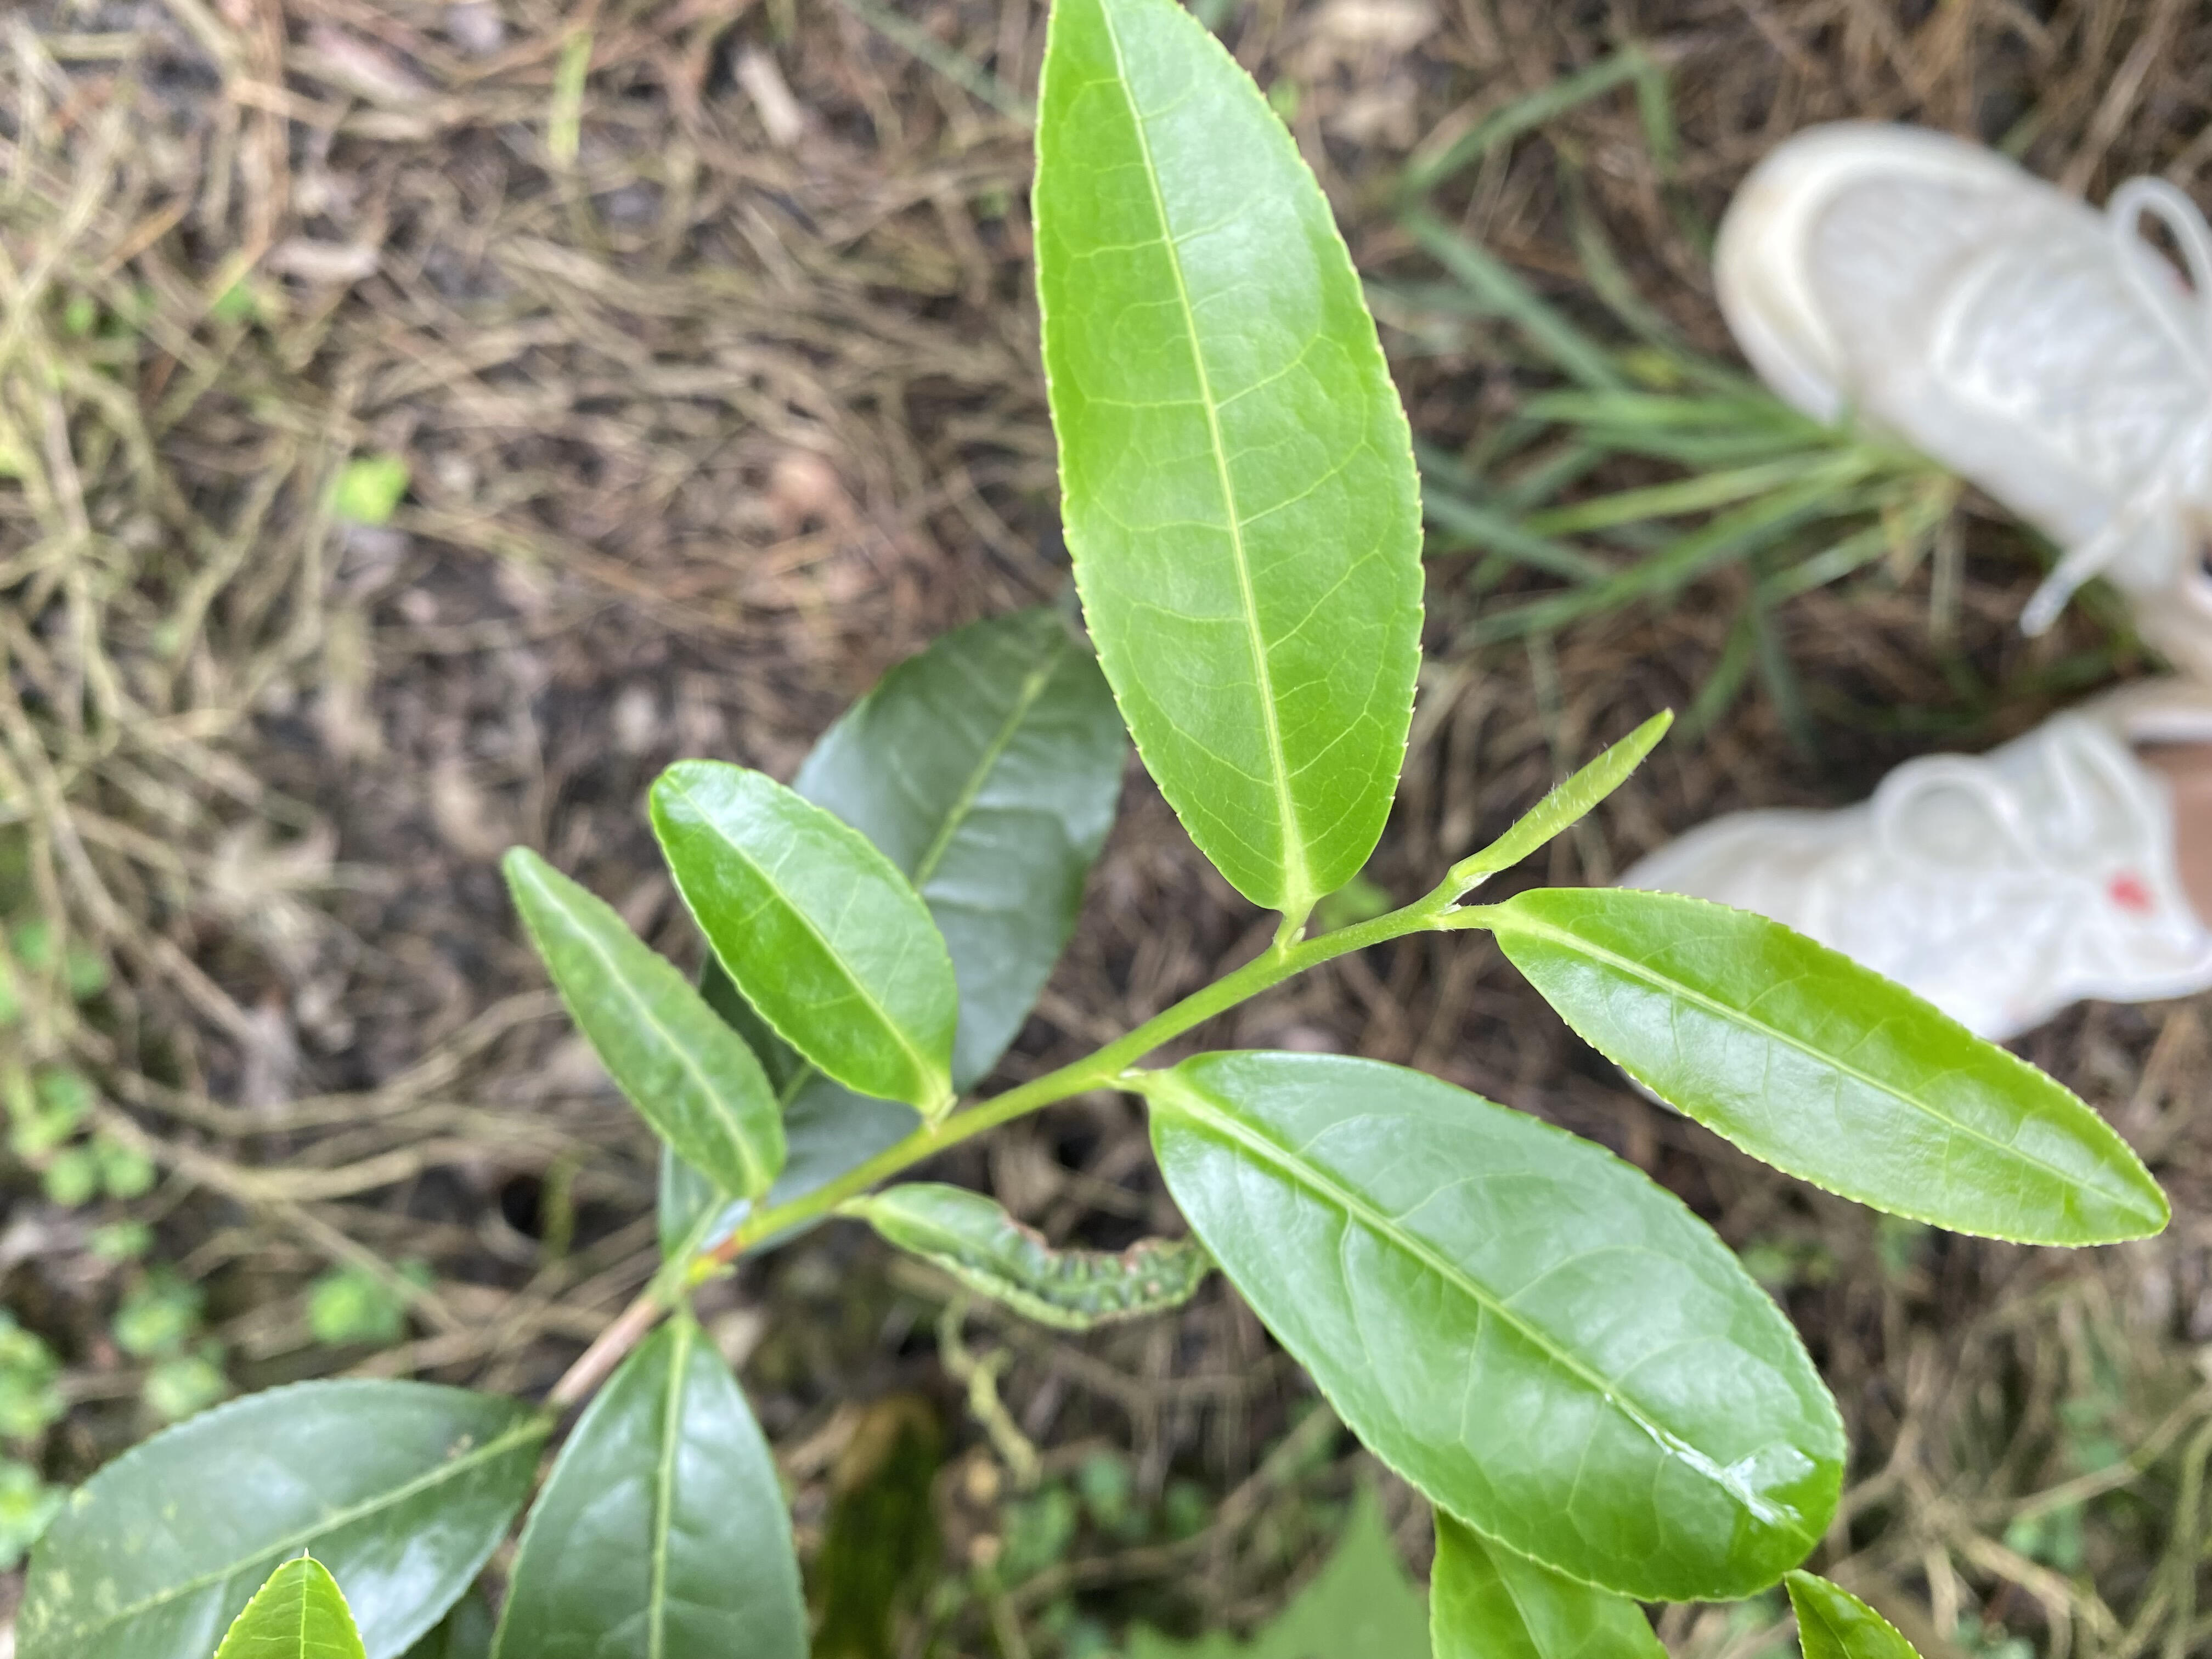chihuo_high: (862, 1180, 1216, 1335)
healthy: (1148, 1047, 1850, 1607), (1026, 3, 1430, 908), (1496, 884, 2168, 1251), (644, 760, 958, 1105)
